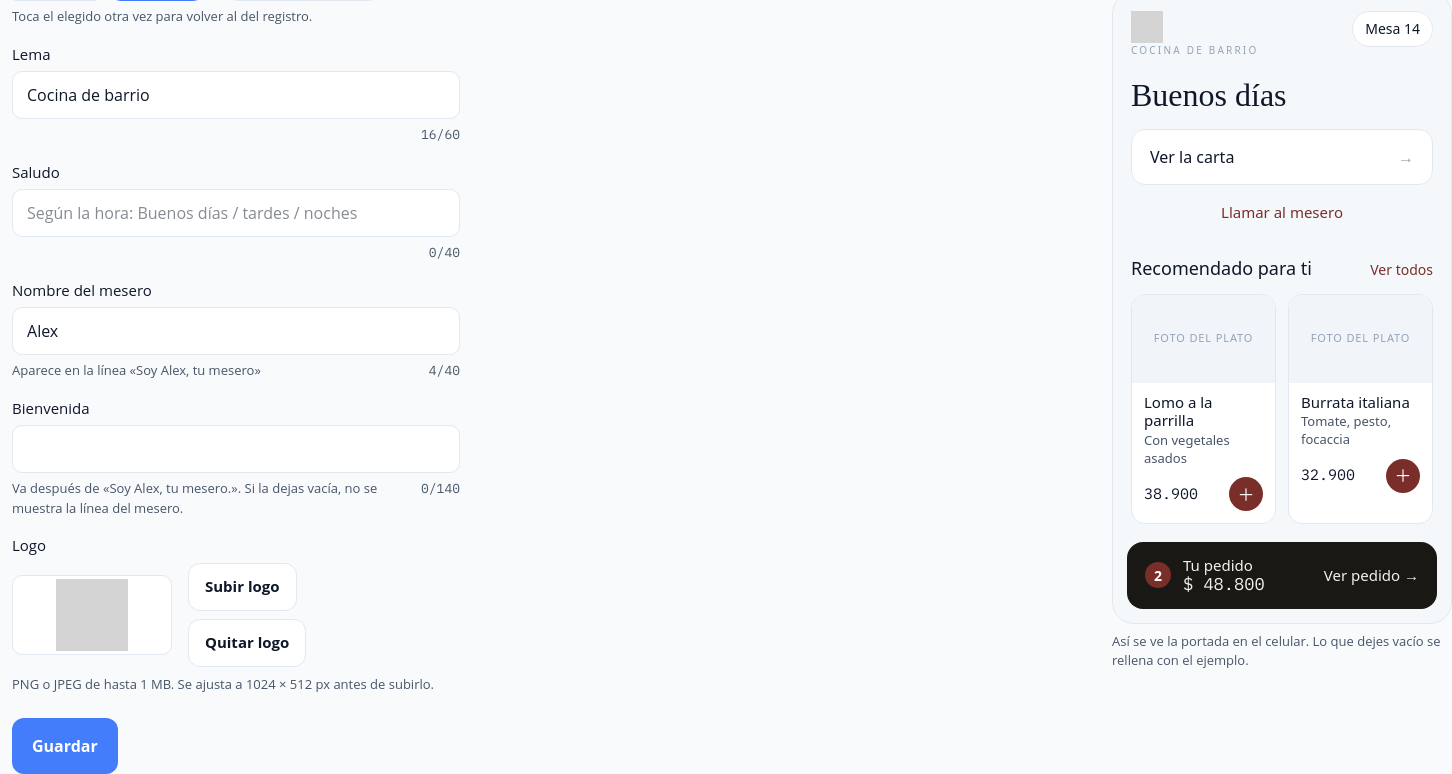
Test: shows the real save error from Odoo and a plain message for access errors
(page scrolled)
Click the button "Guardar".
click(65, 746)  # box [12,718,118,773]
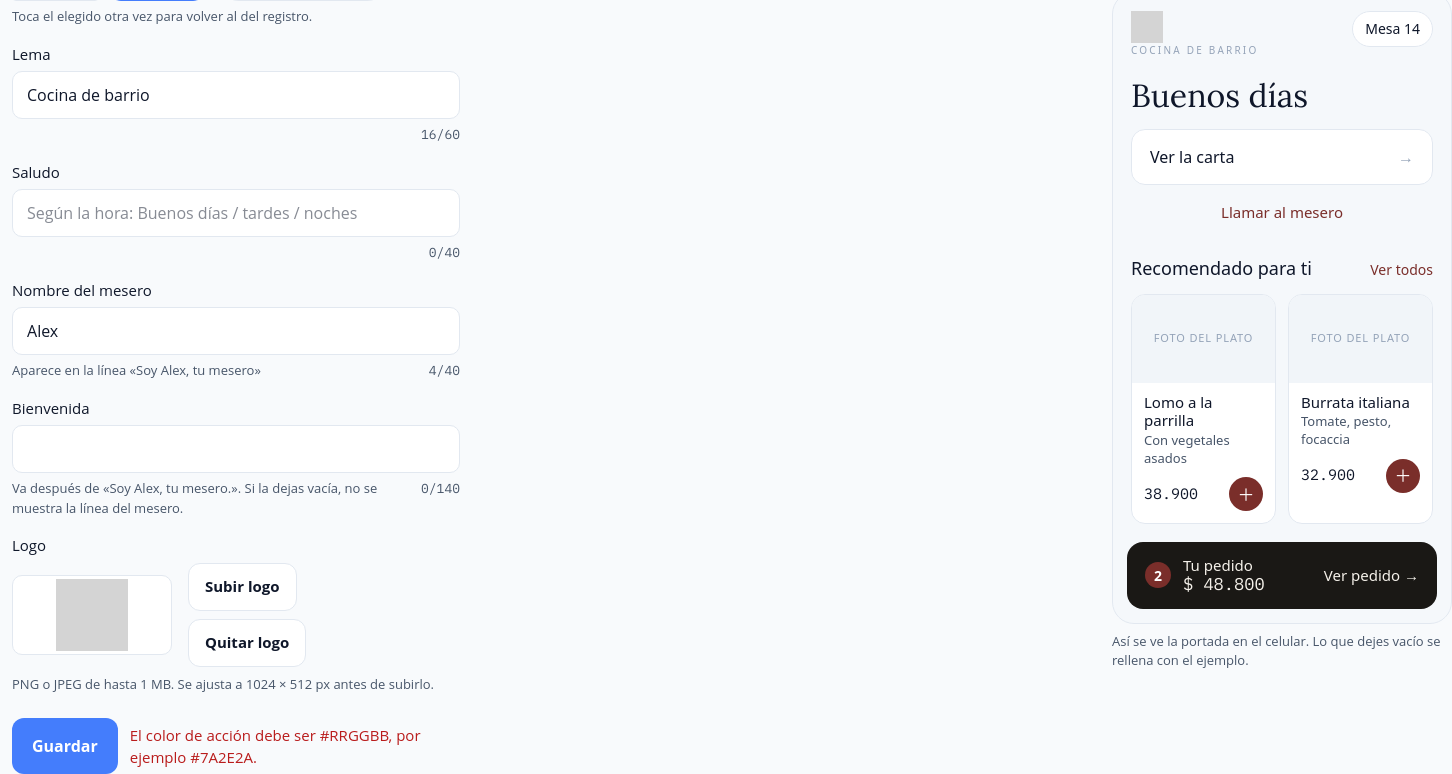
Expected: the message reads "El color de acción debe ser #RRGGBB, por ejemplo #7A2E2A.", [130,724,421,767]
Click the button "Guardar".
click(65, 746)  # box [12,718,118,773]
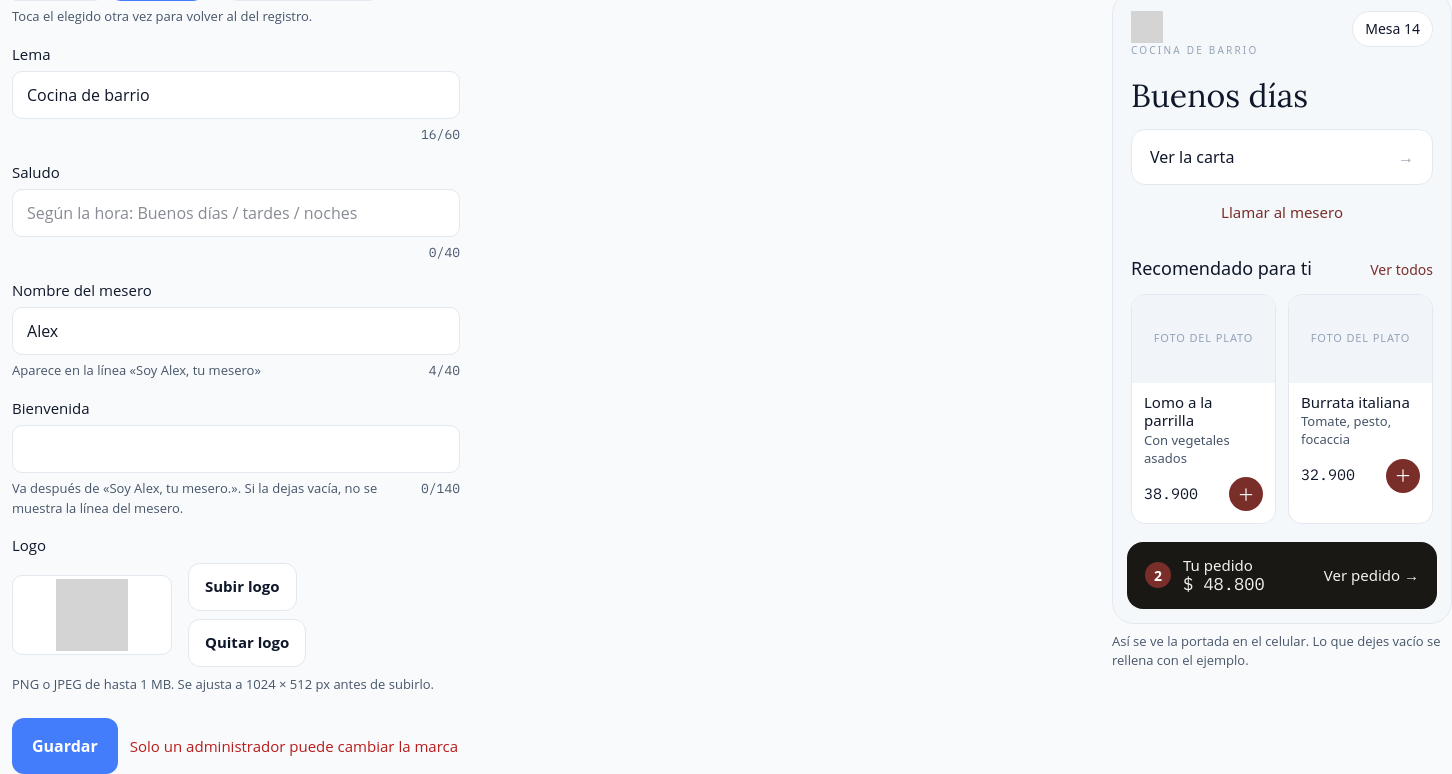
Click the button "Guardar".
click(65, 746)  # box [12,718,118,773]
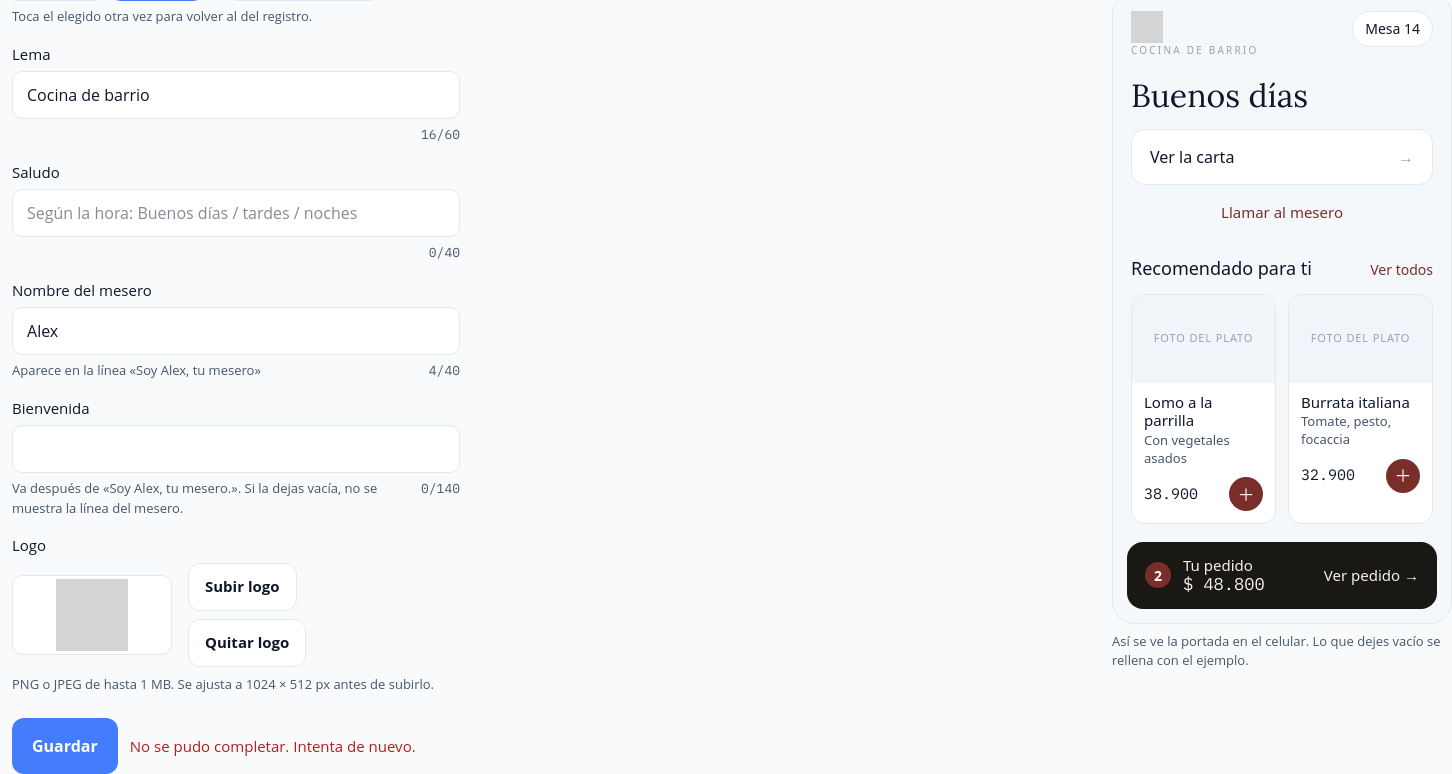
Expected: the text "No se pudo completar. Intenta de nuevo." is shown, [130,735,416,757]
